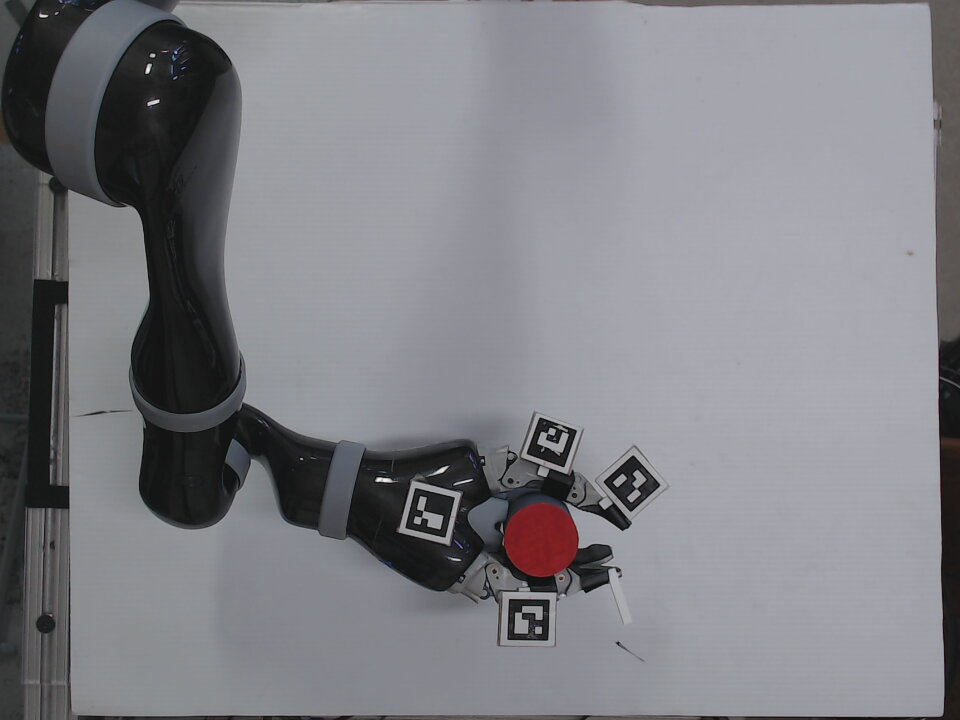cylinder: (498, 492, 584, 580)
